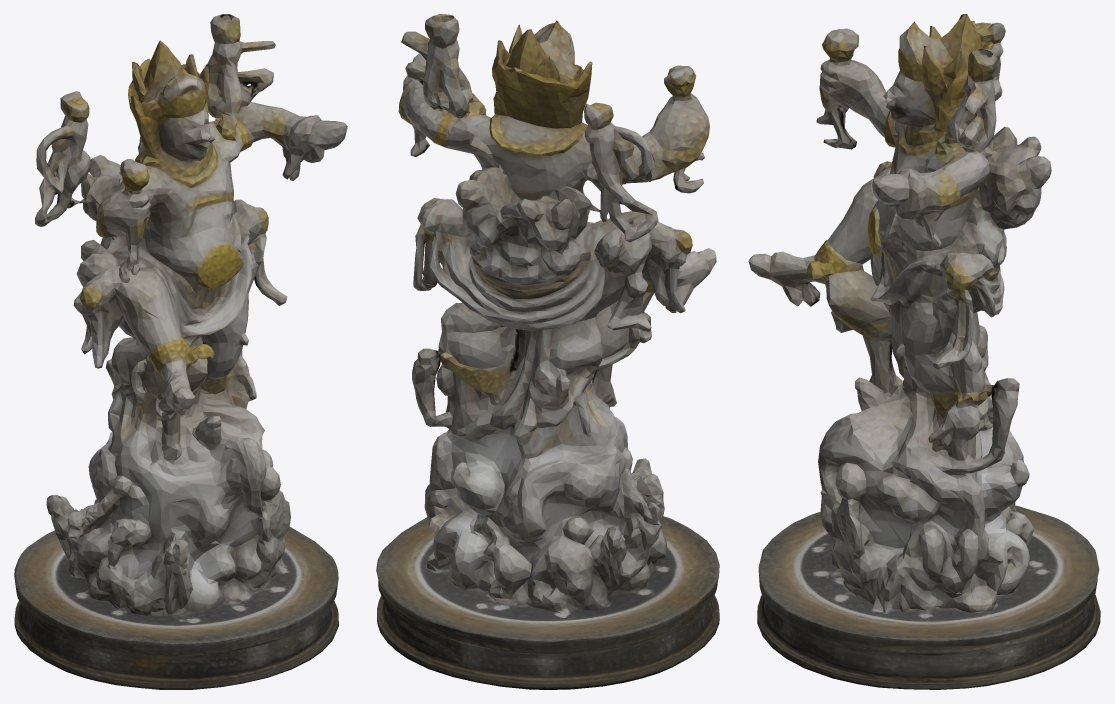
The model's file is sangeh-monkey-forest.glb.
The picture shows the model from 3 angles, left to right: view 1: azimuth 30°, elevation 25°; view 2: azimuth 150°, elevation 25°; view 3: azimuth 270°, elevation 25°; orthographic projection. The views are drawn at different scales.
Visible parts, largest first — view 1: world; view 2: world; view 3: world.
Boxes of the visible parts, x1,y1,x2,y2 form: world: [14, 14, 347, 689]; world: [376, 14, 719, 689]; world: [748, 14, 1100, 689].
Size of the model in its own units: 0.5283 by 0.9976 by 0.5267.
1 material, 1 textured.
